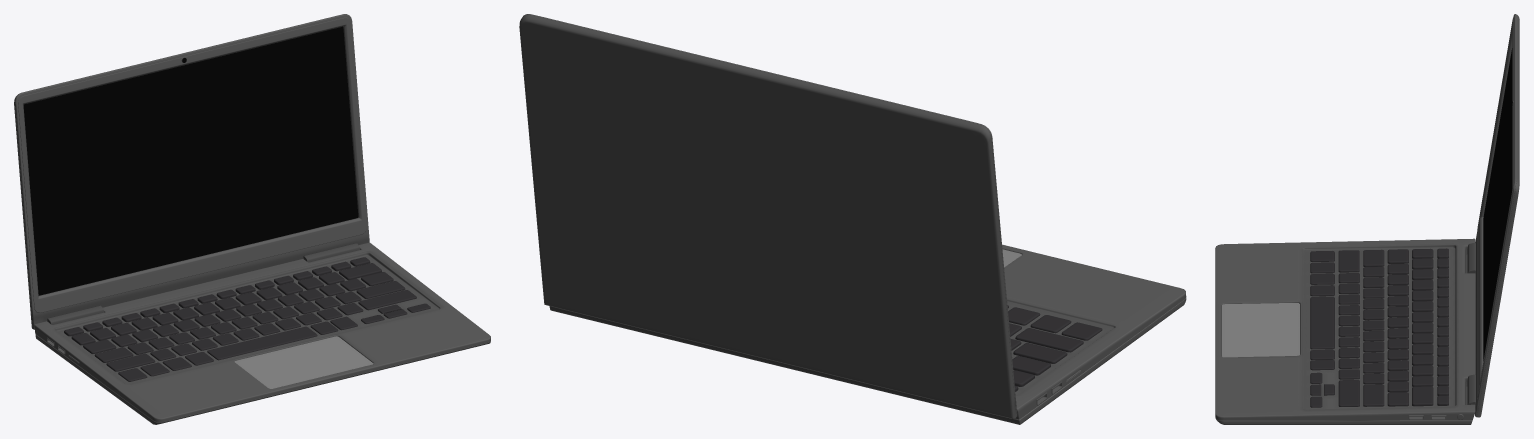
Rendered from notebook.glb.
The picture shows the model from 3 angles, left to right: view 1: azimuth 30°, elevation 25°; view 2: azimuth 150°, elevation 25°; view 3: azimuth 270°, elevation 25°; orthographic projection. The views are drawn at different scales.
Visible parts, largest first — view 1: Object_2, Object_4, Object_5; view 2: Object_5, Object_4; view 3: Object_4, Object_5, Object_2.
Boxes of the visible parts, x1,y1,x2,y2 form: Object_2: (23, 26, 358, 295); Object_4: (34, 242, 490, 422); Object_5: (14, 14, 490, 424); Object_5: (519, 14, 1186, 424); Object_4: (1002, 244, 1186, 419); Object_4: (1215, 238, 1475, 420); Object_5: (1216, 14, 1519, 424); Object_2: (1483, 48, 1512, 360).
Bounding box in the file's own units: 25.21 × 16.34 × 18.68.
Materials: 3 (2 with a texture image).
